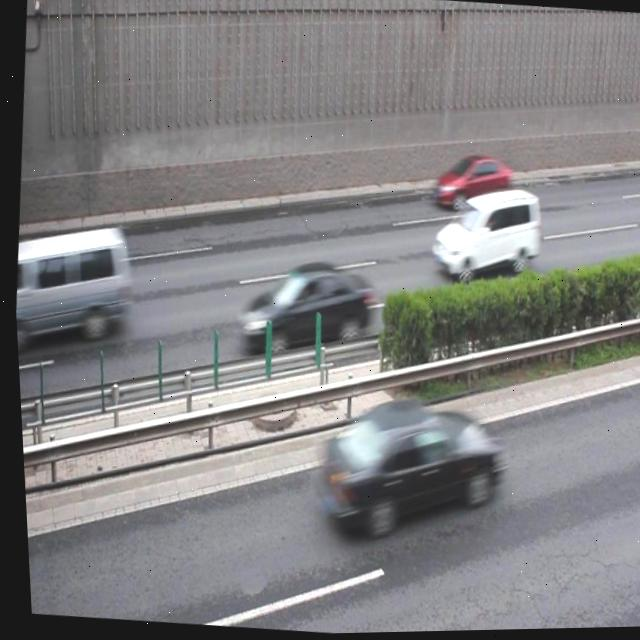car: (306, 387, 500, 549), (228, 253, 375, 365), (421, 181, 542, 289), (427, 151, 512, 220)
truck: (9, 216, 134, 353)
